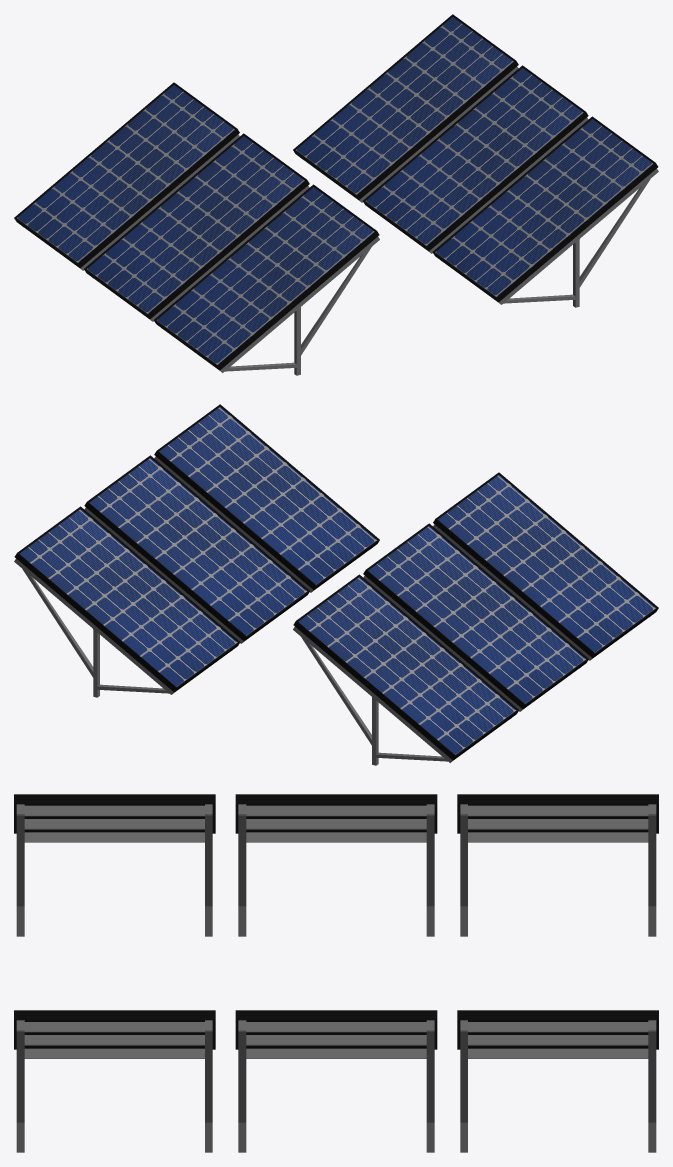
Rendered from solar_panel_2x3.glb.
The picture shows the model from 3 angles, top to bottom: view 1: azimuth 30°, elevation 25°; view 2: azimuth 150°, elevation 25°; view 3: azimuth 270°, elevation 25°; orthographic projection. The views are drawn at different scales.
Visible parts, largest first — view 1: Plane_0; view 2: Plane_0; view 3: Plane_0.
Part boxes in pixels (box(x1,y1,x2,y2)): Plane_0: box(14, 14, 658, 375); Plane_0: box(14, 404, 658, 765); Plane_0: box(14, 794, 658, 1152).
Size of the model in its own units: 4.14 by 1.13 by 3.29.
1 material, 1 textured.
